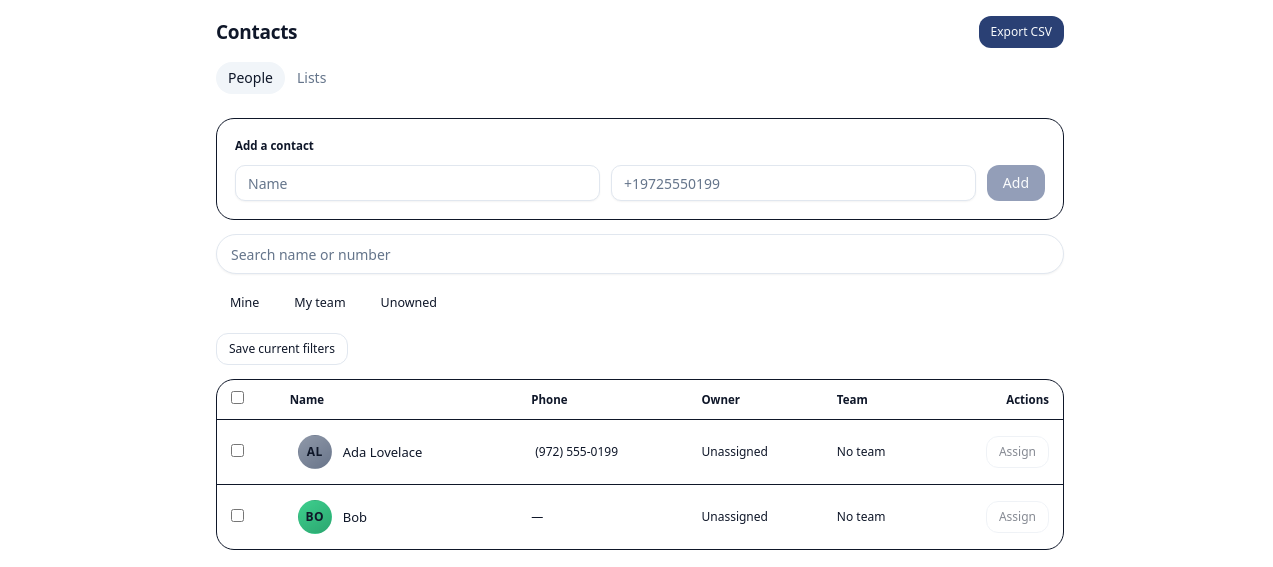
P27 Contacts page › renders the Lists tab, which carries the list import UI
Expected: the tab "People" is shown, [216,62,285,94]
Step 1. Click the tab "Lists" → (312, 78), box [285,62,338,94]
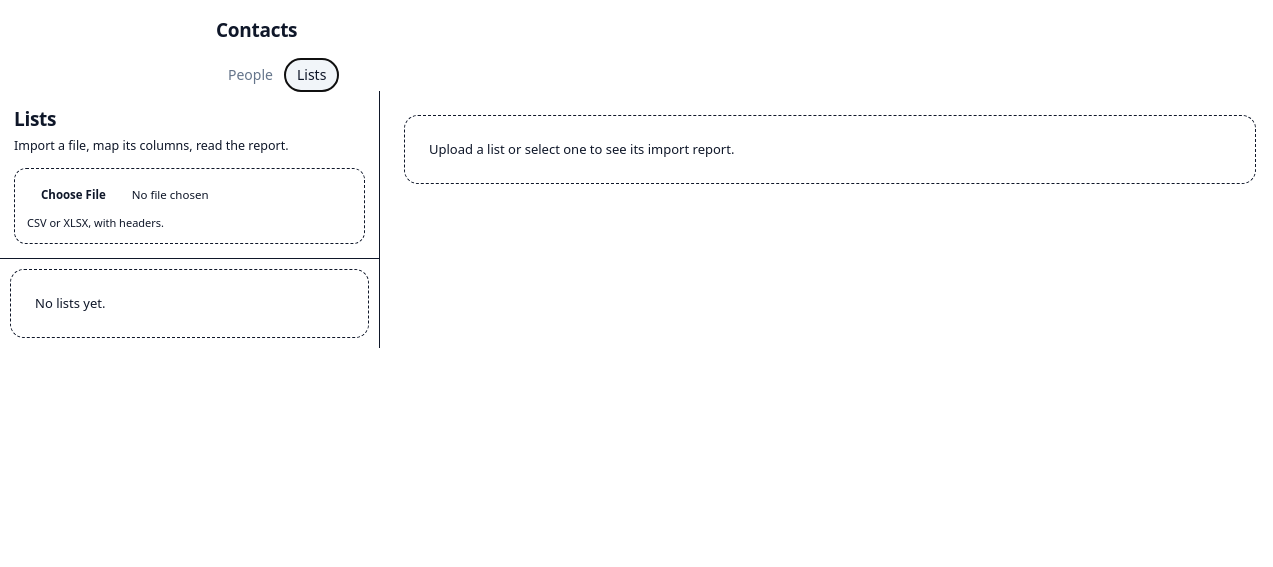
Now the file field named "Upload list file" is shown, box [27,180,352,209]
